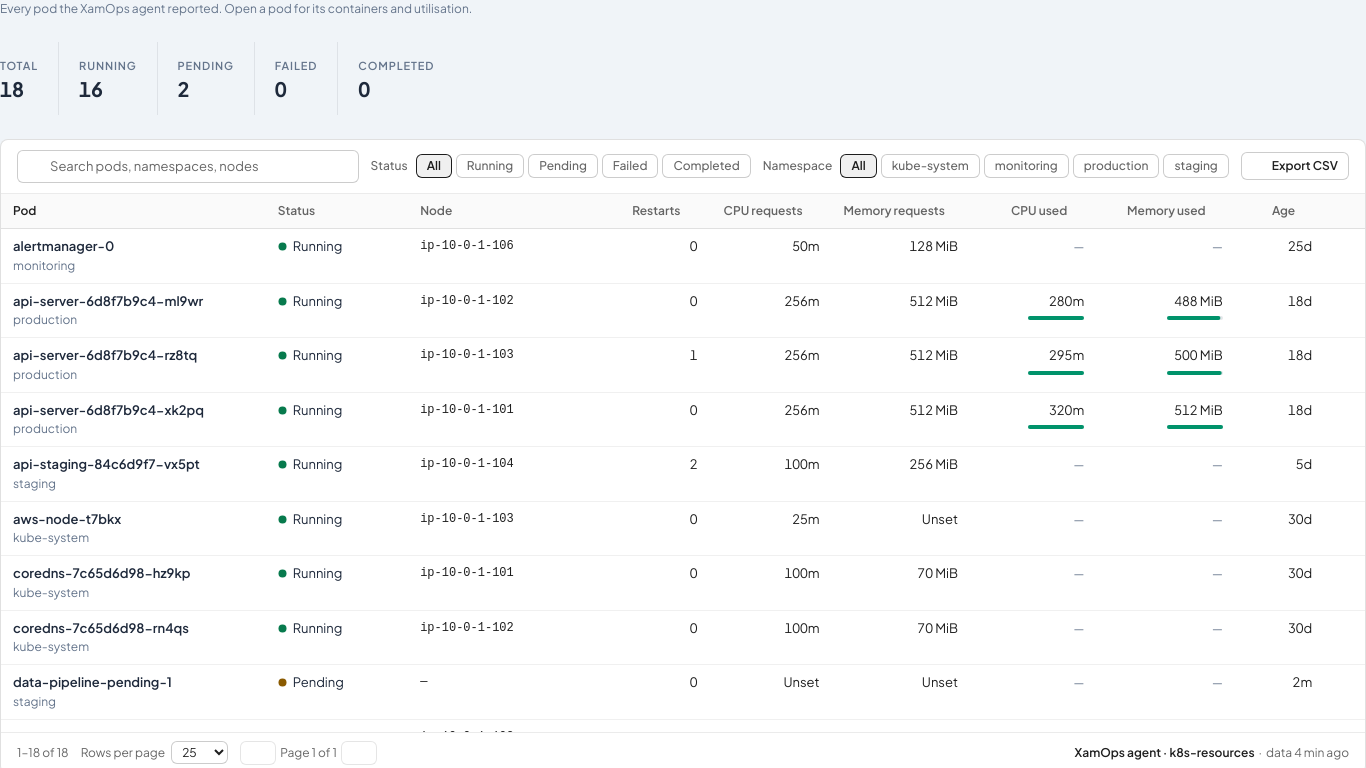
Test: Workloads › Pods (§10.4, D10) › filters by status and opens a pod row to its drawer, with full untruncated container detail
What coordinates should you click on to do the following:
click the button "Pending"
I would click on:
 (563, 166)
Its box is [528,154,598,178].
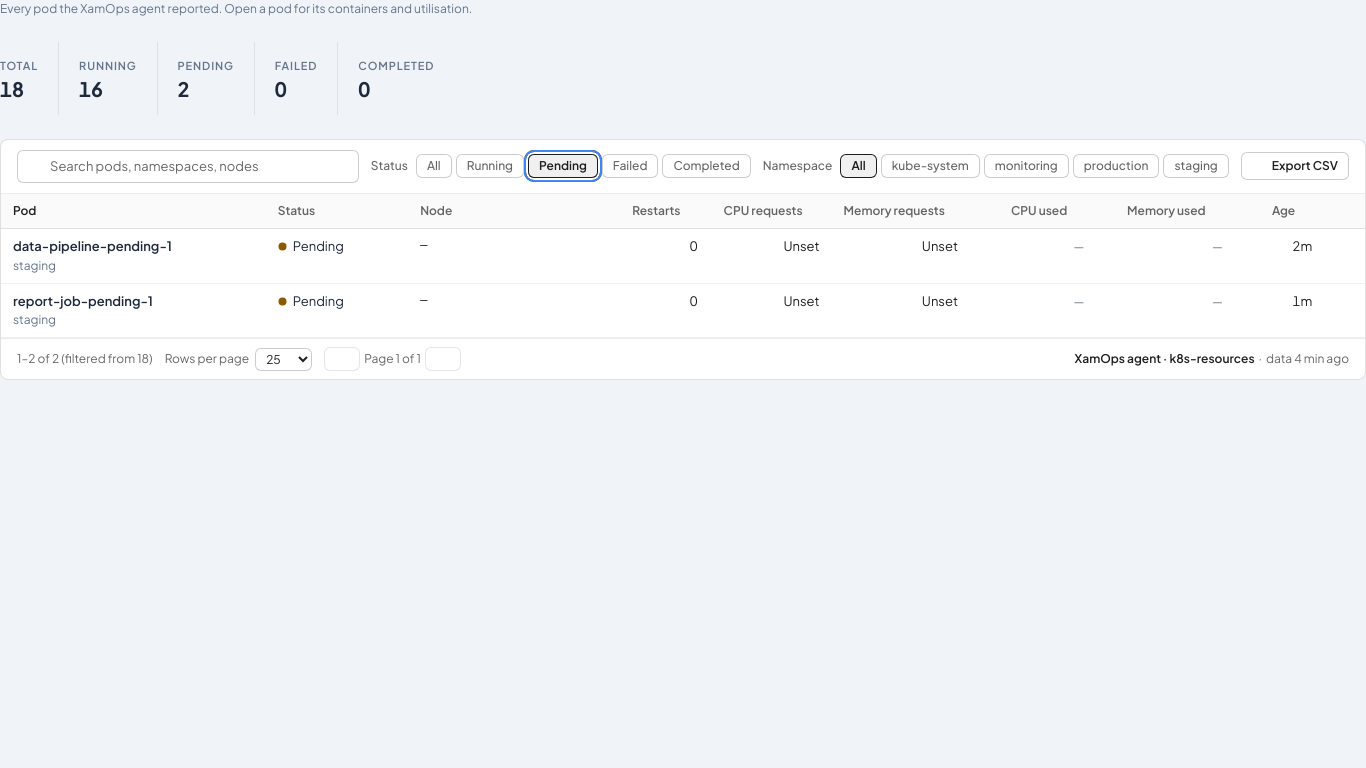
What coordinates should you click on to do the following:
click the button with aria-label "data-pipeline-pending-1"
I would click on:
 (92, 246)
Its box is [1,229,1365,283].
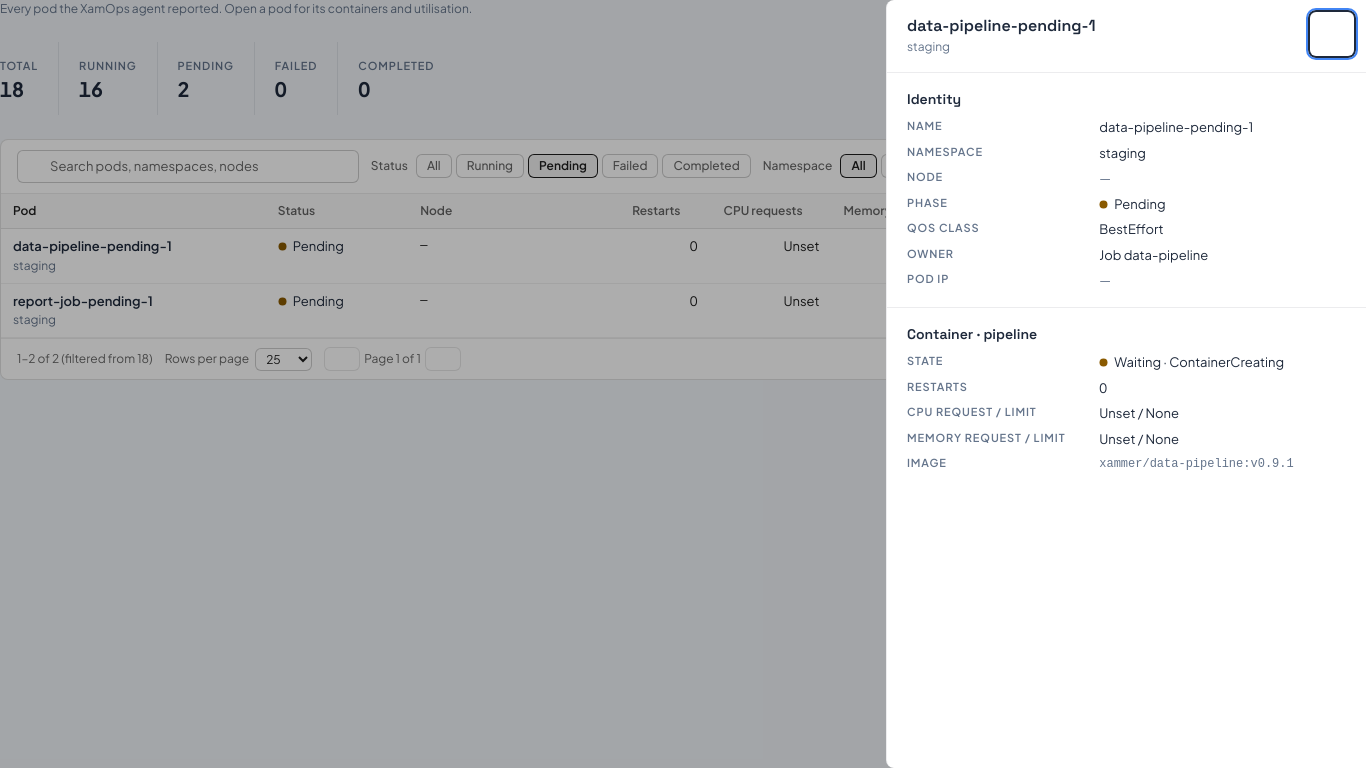
Expected: the dialog shows "data-pipeline-pending-1", [907,15,1096,36]
Expected: the dialog shows "staging", [907,39,950,54]
